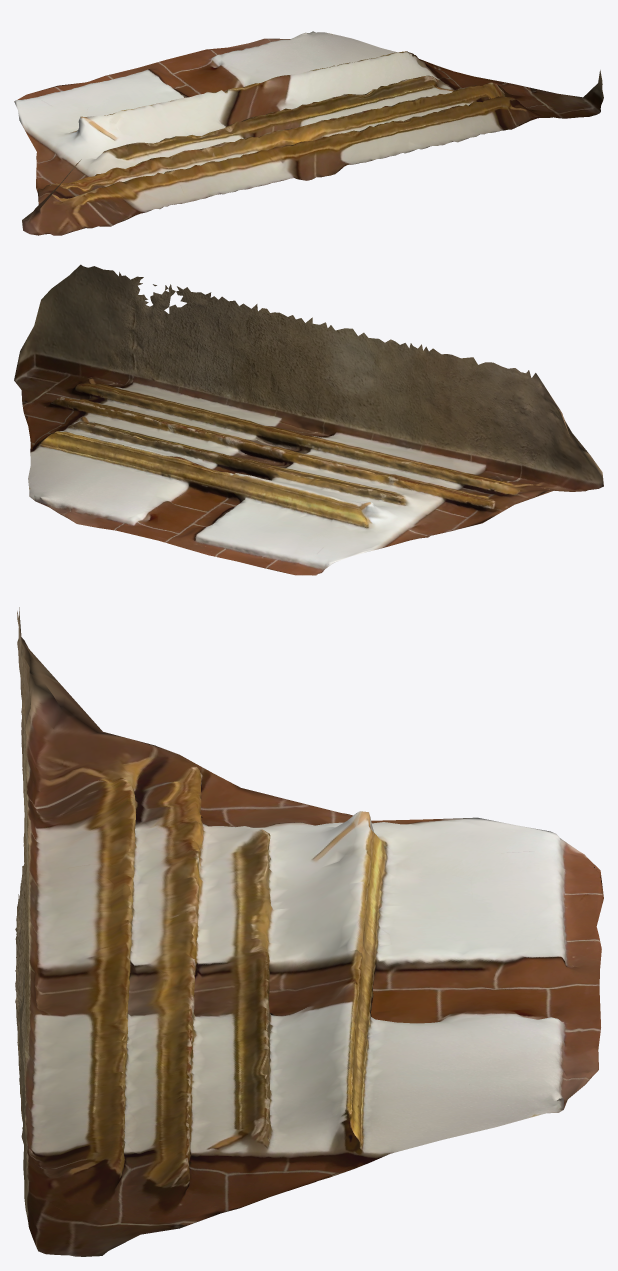
3 renders of one model, top to bottom at view 1: azimuth 30°, elevation 25°; view 2: azimuth 150°, elevation 25°; view 3: azimuth 270°, elevation 25°, orthographic. The views are drawn at different scales.
Visible parts, largest first — view 1: Node; view 2: Node; view 3: Node.
Boxes of the visible parts, bbox=[...] form: Node: bbox=[14, 31, 603, 235]; Node: bbox=[14, 264, 603, 575]; Node: bbox=[15, 607, 603, 1256].
Bounding box in the file's own units: 4.44 × 0.8642 × 2.16.
1 material, 1 textured.
